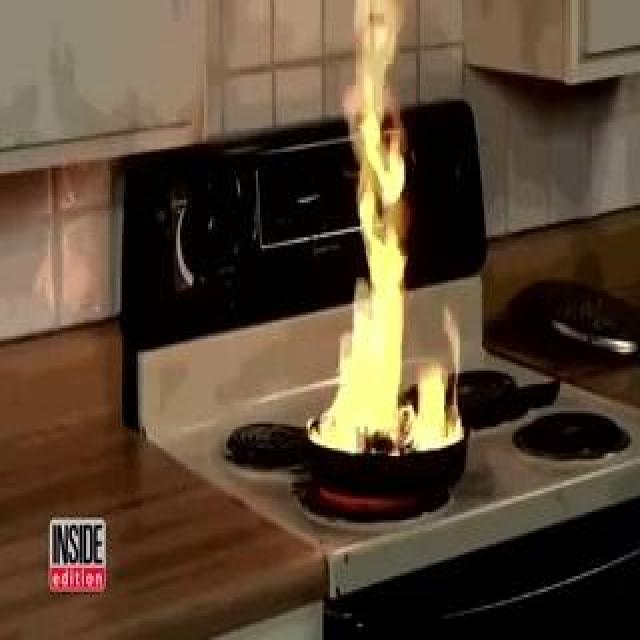Fire: (303, 19, 465, 466)
